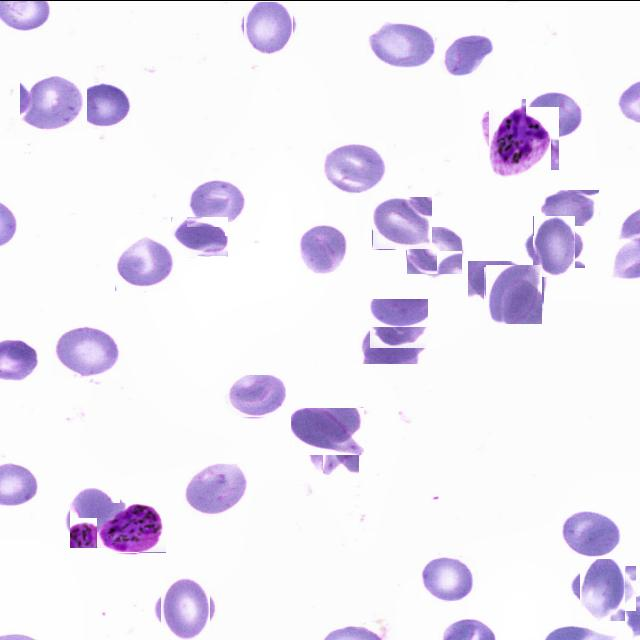red blood cell: (50, 324, 122, 378), (20, 73, 87, 131), (183, 462, 247, 518), (292, 407, 366, 454), (322, 140, 387, 192), (485, 265, 543, 323), (156, 580, 214, 636), (304, 416, 362, 472), (115, 236, 175, 290), (368, 20, 435, 68), (372, 196, 432, 249), (575, 560, 631, 616), (187, 177, 249, 226), (68, 490, 124, 544), (561, 510, 623, 558), (369, 298, 428, 348), (361, 319, 428, 363), (71, 81, 132, 128), (241, 0, 295, 52), (526, 90, 584, 138), (297, 222, 350, 274), (528, 220, 580, 272), (406, 226, 462, 274), (468, 260, 529, 304), (225, 374, 286, 417), (438, 32, 494, 78), (422, 554, 478, 600), (541, 189, 599, 232), (171, 216, 228, 256)
schizont: (484, 102, 555, 173)
trophozoite: (96, 502, 166, 552)
